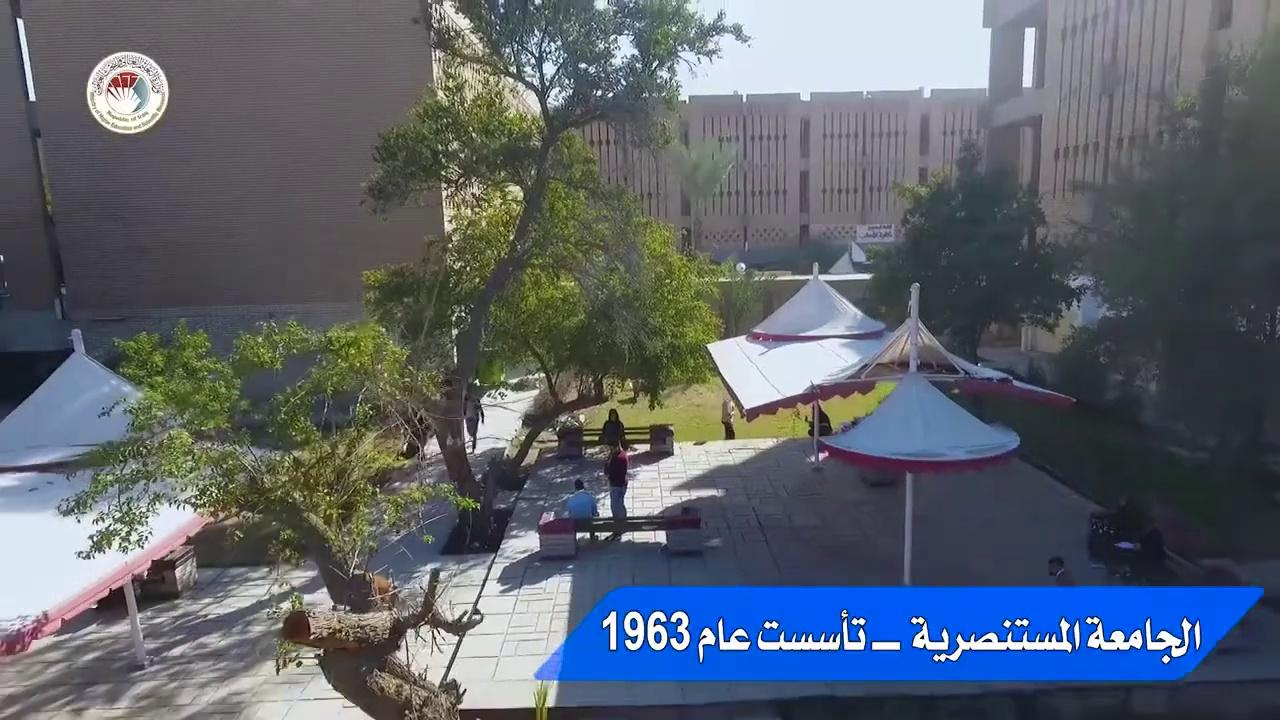person: (603, 439, 628, 540), (565, 477, 599, 541), (600, 408, 626, 474), (462, 394, 484, 453), (1048, 555, 1075, 585), (721, 396, 736, 439)
tree: (353, 0, 753, 546), (449, 134, 882, 538), (116, 309, 508, 720), (478, 207, 725, 465), (862, 134, 1090, 368)
